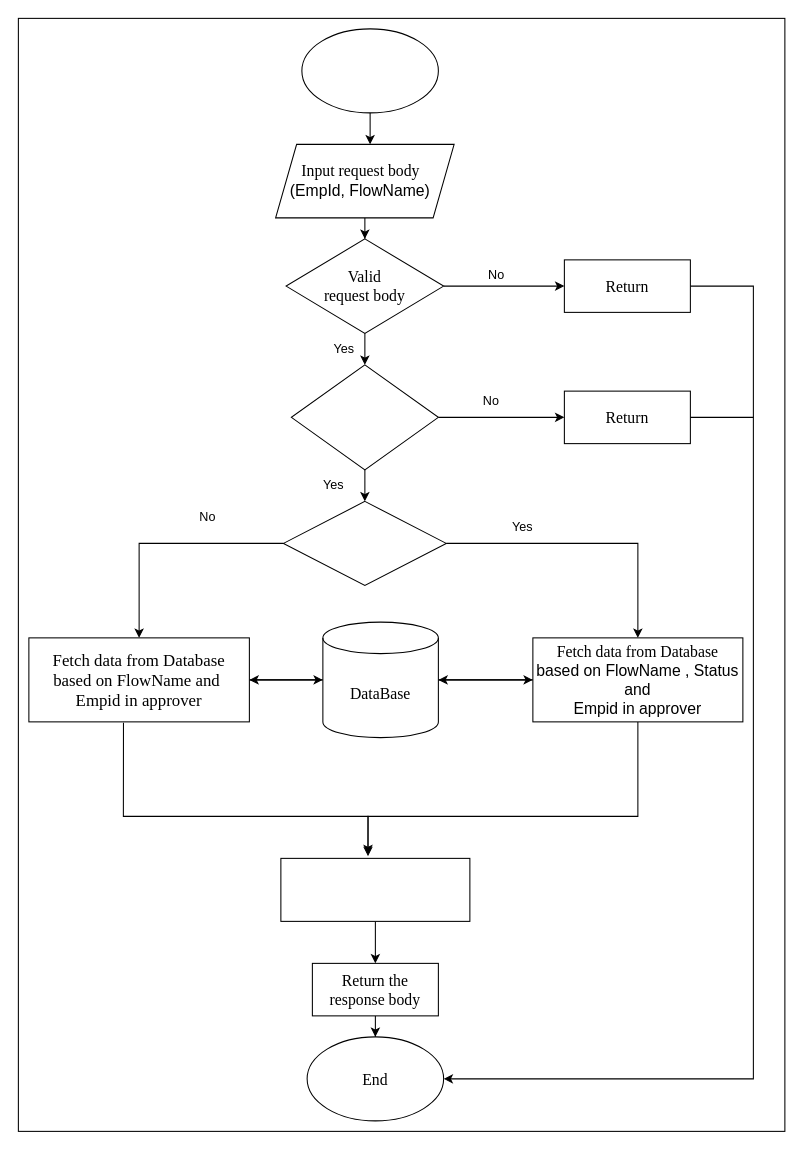
The diagram is 803 pixels wide and 1150 high, and some of its shapes have lost their labels. Each missing label, with the centre of its shape:
"Flow name exist" belongs at point 364,417.
"Preparing the response body" belongs at point 375,889.
"Start" belongs at point 369,70.
"Status in request body" belongs at point 364,542.
